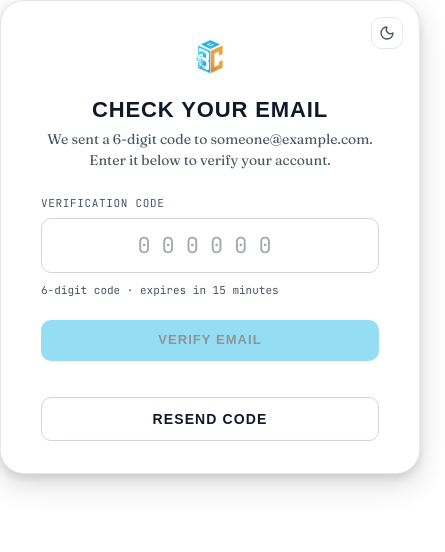
Test case: verify-email resend › disables the control while a send is in flight
This screenshot has width=445, height=552.
Click the button "Resend code" at x=210, y=419, box x1=41 y1=397 x2=379 y2=441
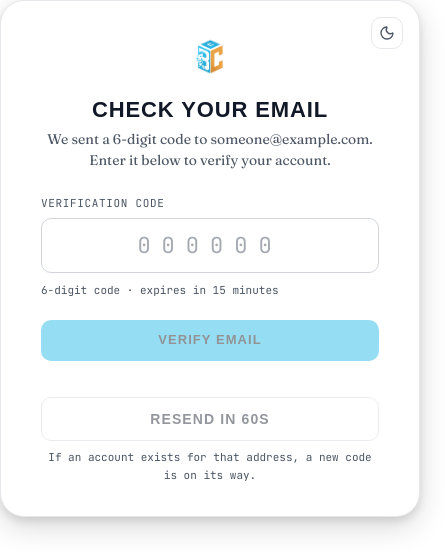
expect the button "Resend in 60s" is disabled: met, box x1=41 y1=397 x2=379 y2=441
